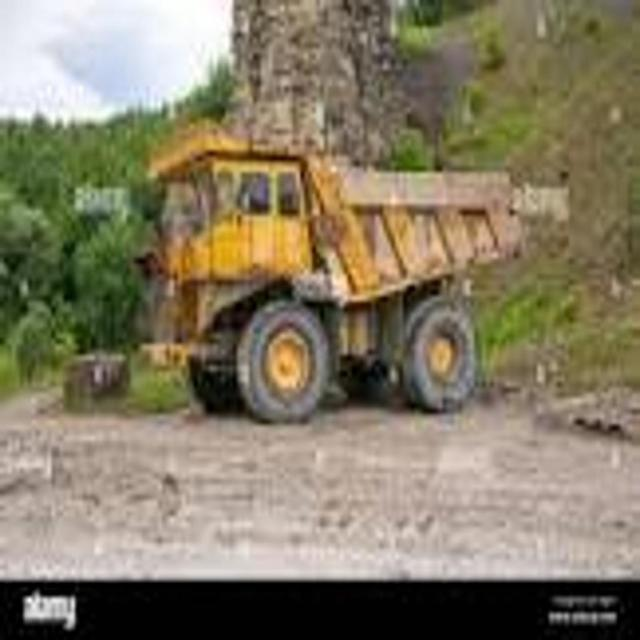dump_truck: (147, 112, 523, 425)
